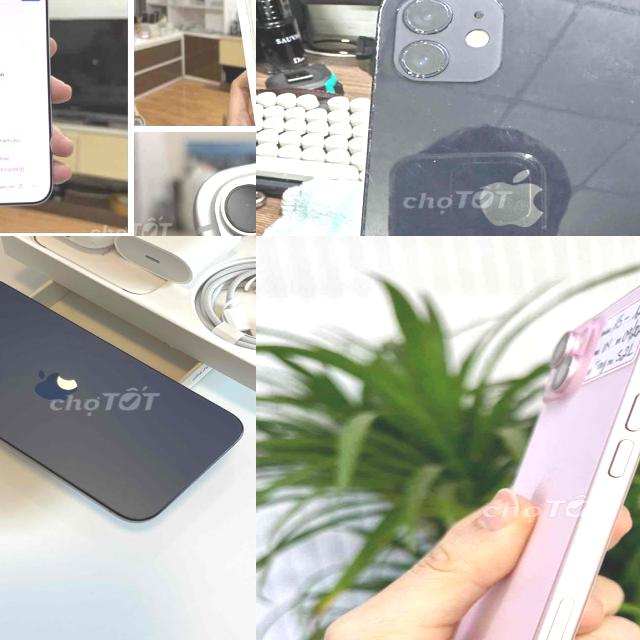gen_12_13: (367, 269, 640, 640), (330, 0, 640, 236)
gen_15: (0, 270, 256, 526)
gen_17: (0, 0, 72, 217)
